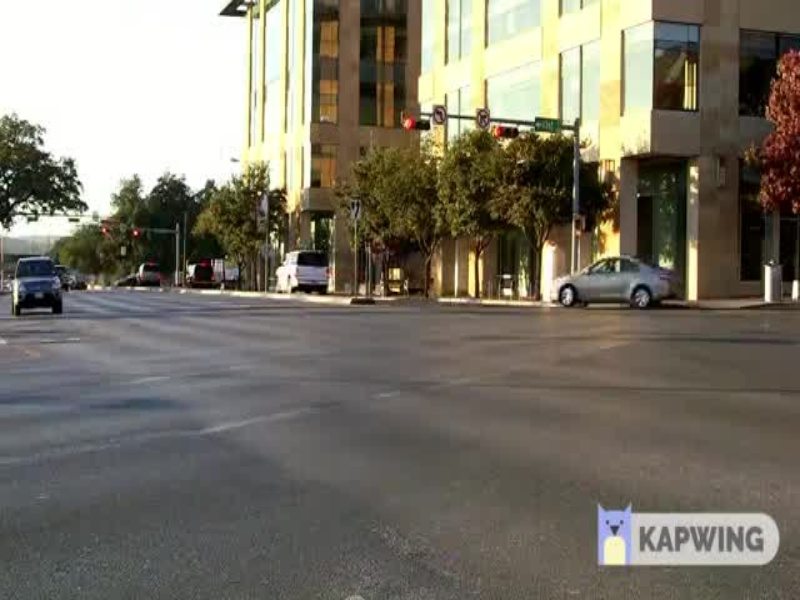car: (543, 250, 685, 313)
suv: (8, 253, 74, 323), (266, 245, 343, 298)
